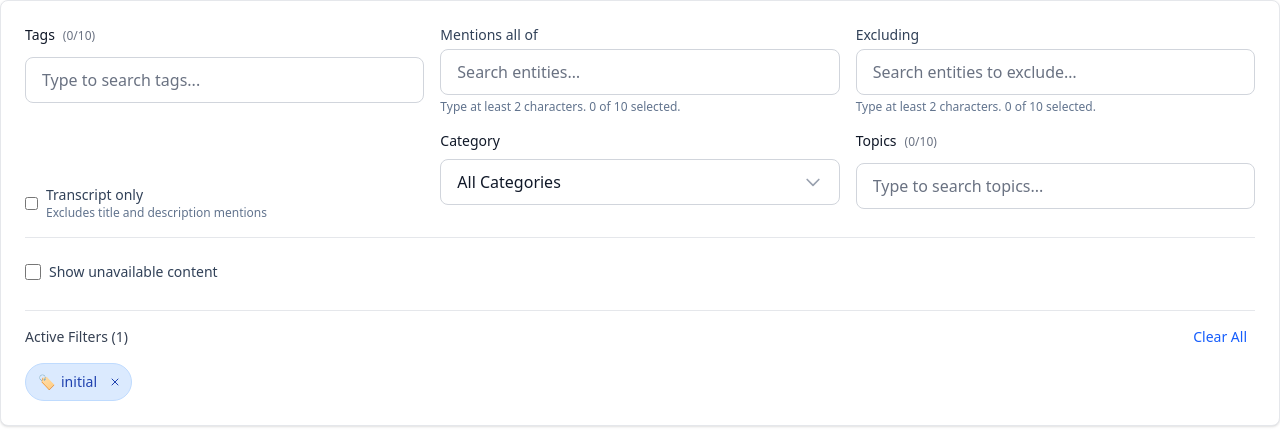
Scenario: VideoFilters - URL Composability (T071-T075) › URL state synchronization patterns › should use replaceState behavior (not create new history entries) on filter change
Note: The Clear All button triggers setSearchParams
Click the button "Clear All" at point(1220, 337), box left=1185, top=323, right=1255, bottom=351
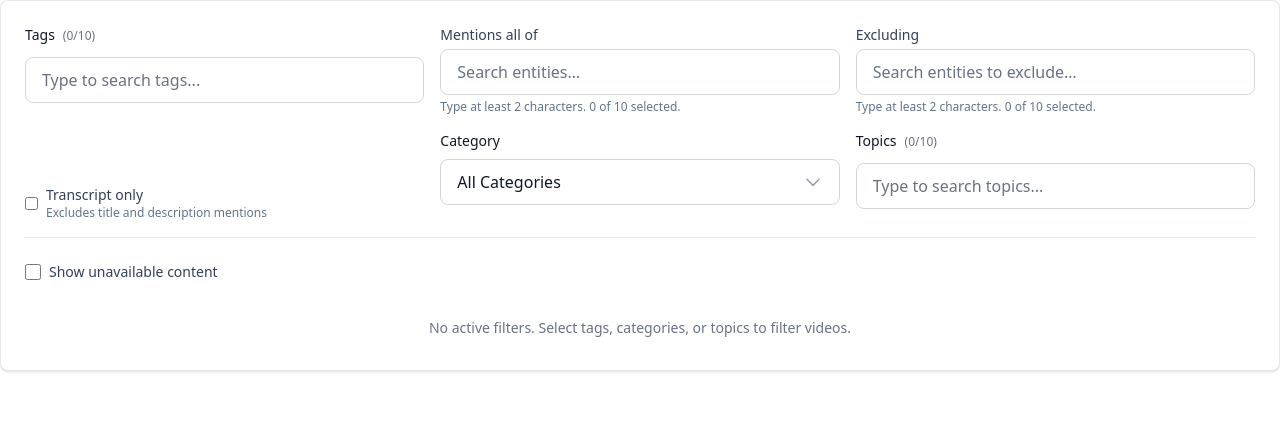
Expected: the text "No active filters" is shown, left=429, top=318, right=851, bottom=337
